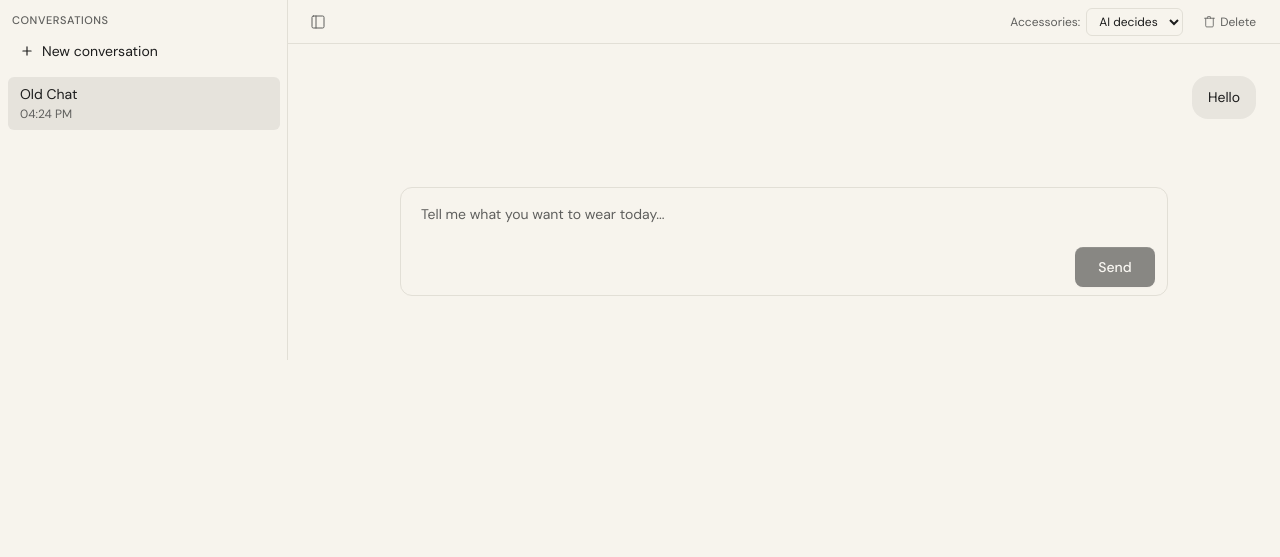
Test case: ChatPage › conversation history › New Chat button resets to greeting
Expected: the text "Old Chat" is shown, [20,84,78,102]
Click the button "New conversation": {"x": 144, "y": 50} [8,32,280,68]
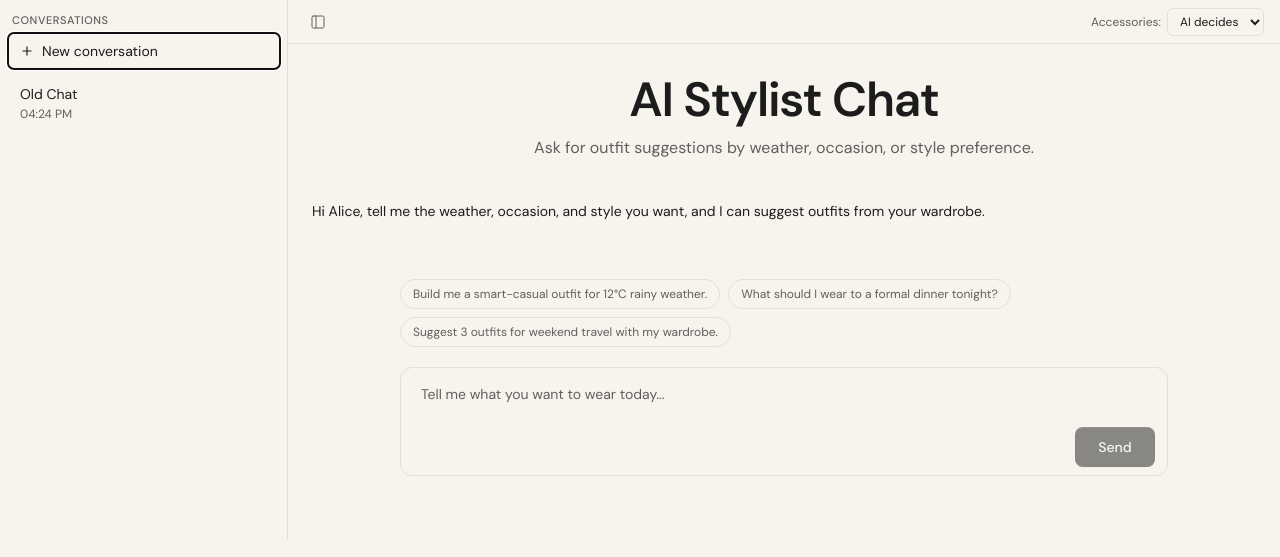
Expected: the text "tell me the weather" is shown, [312,202,985,220]
